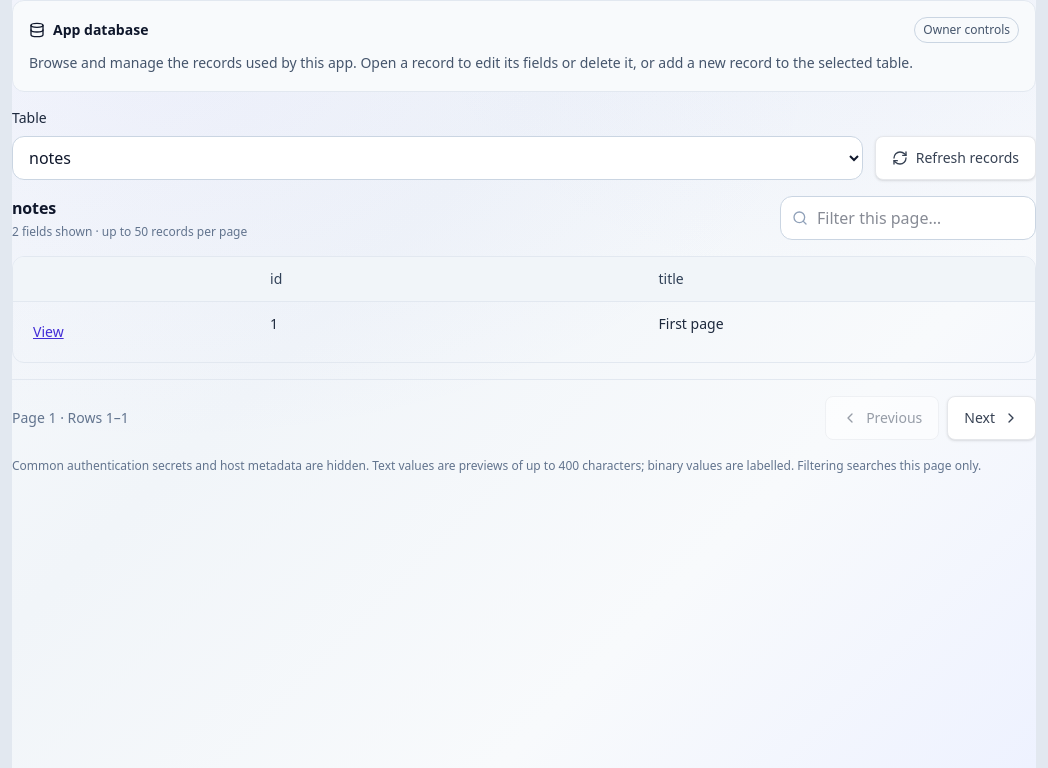
Test: paginates real requests and hides old records when a page fails to load
Click the button "Next" at (992,418), box [947,396,1036,440]
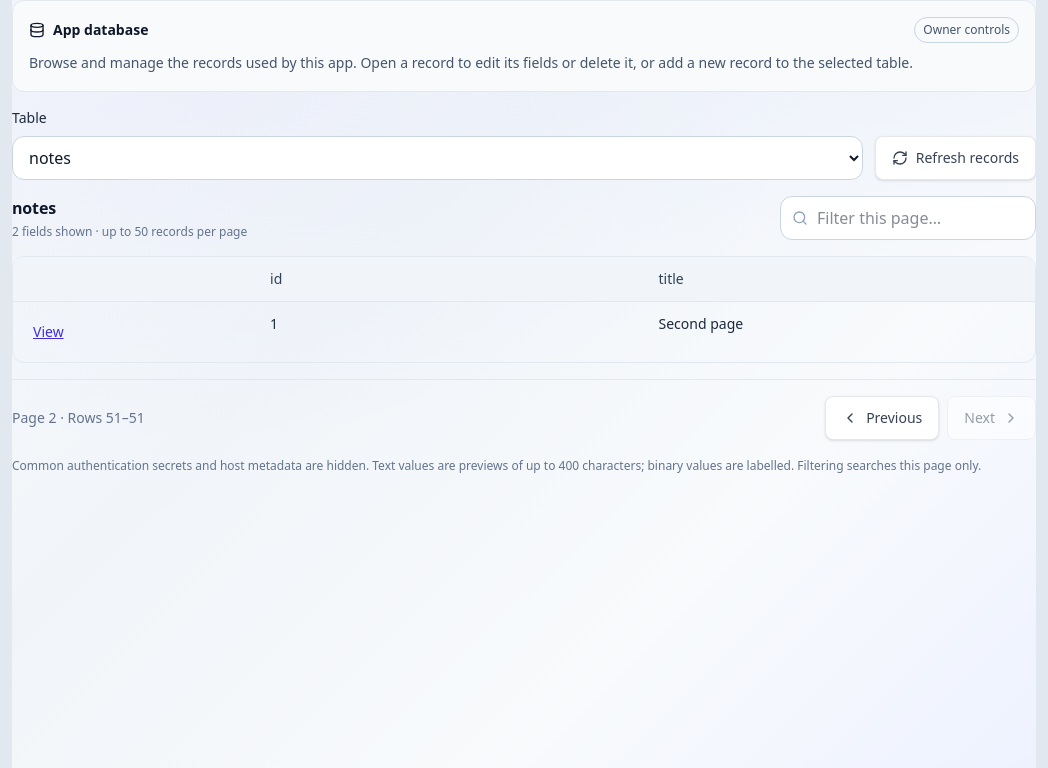
Check: the text "Second page" is shown, box [658,314,743,333]
Check: the text "First page" is gone
Check: the button "Next" is disabled, box [947,396,1036,440]
Click the button "Refresh records" at (955,158), box [875,136,1036,180]
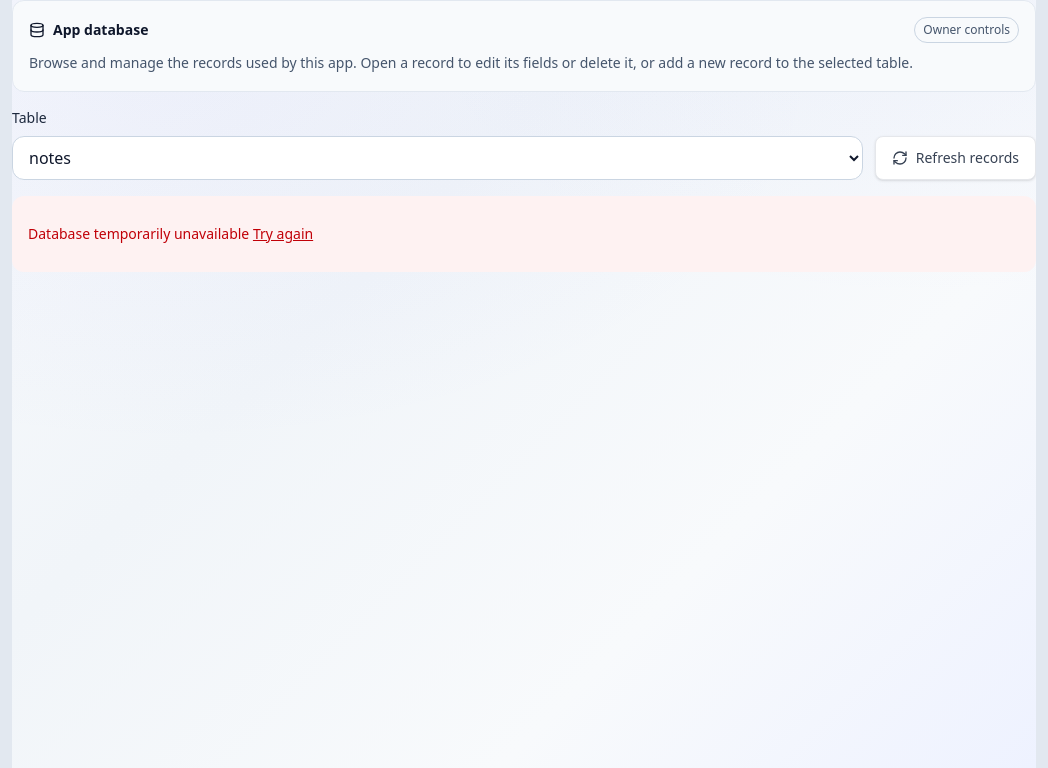
Check: the button "Try again" is shown, box [253,212,313,256]
Check: the message "Database temporarily unavailable Try again" is shown, box [12,196,1036,272]
Check: the text "Second page" is gone
